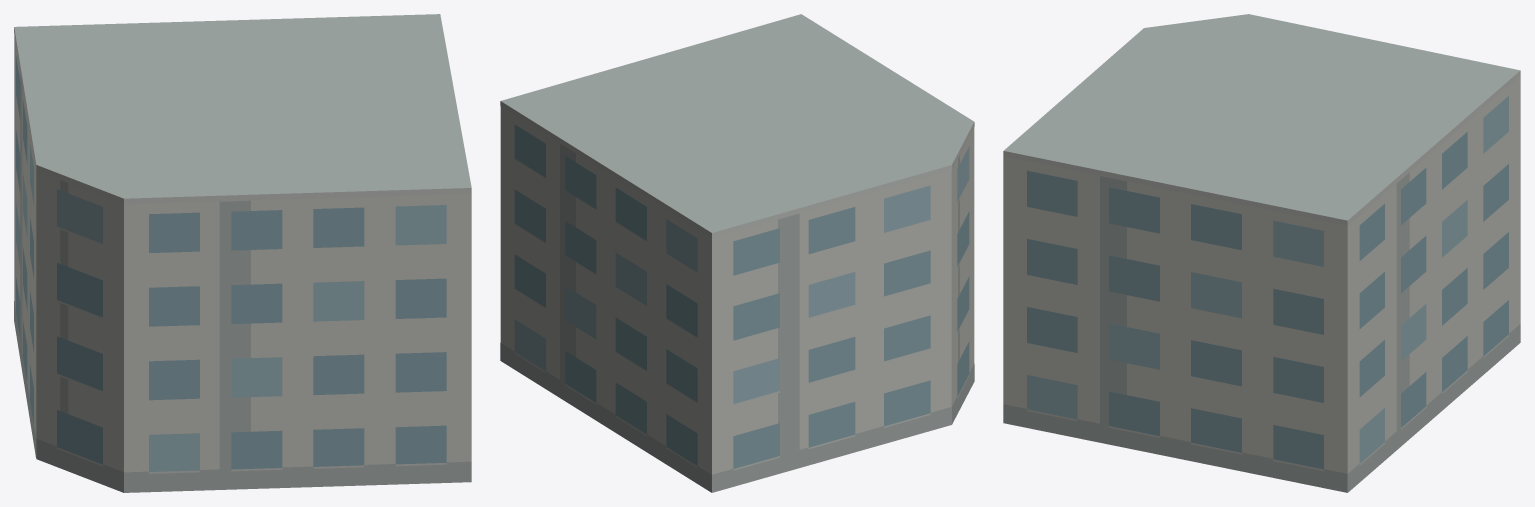
The model's file is residential-99bd1f61-f29c-44d4-b3f3-ac78b3e2da66.glb.
The picture shows the model from 3 angles, left to right: view 1: azimuth 30°, elevation 25°; view 2: azimuth 150°, elevation 25°; view 3: azimuth 270°, elevation 25°; orthographic projection. The views are drawn at different scales.
Visible parts, largest first — view 1: residential-99bd1f61-f29c-44d4-b3f3-ac78b3e2da66.tmp; view 2: residential-99bd1f61-f29c-44d4-b3f3-ac78b3e2da66.tmp; view 3: residential-99bd1f61-f29c-44d4-b3f3-ac78b3e2da66.tmp.
Boxes of the visible parts, bbox=[...] form: residential-99bd1f61-f29c-44d4-b3f3-ac78b3e2da66.tmp: bbox=[14, 14, 471, 492]; residential-99bd1f61-f29c-44d4-b3f3-ac78b3e2da66.tmp: bbox=[500, 14, 974, 492]; residential-99bd1f61-f29c-44d4-b3f3-ac78b3e2da66.tmp: bbox=[1003, 14, 1520, 492].
Bounding box in the file's own units: 19.53 × 12 × 20.66.
